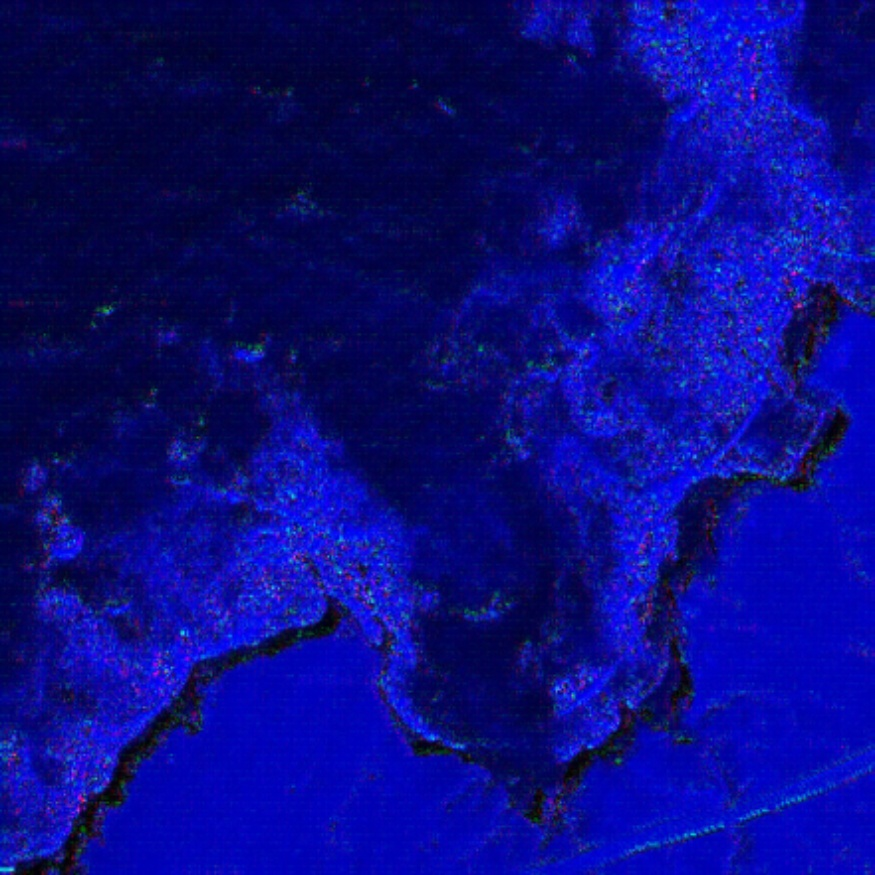rip_current: (227, 234, 617, 585)
